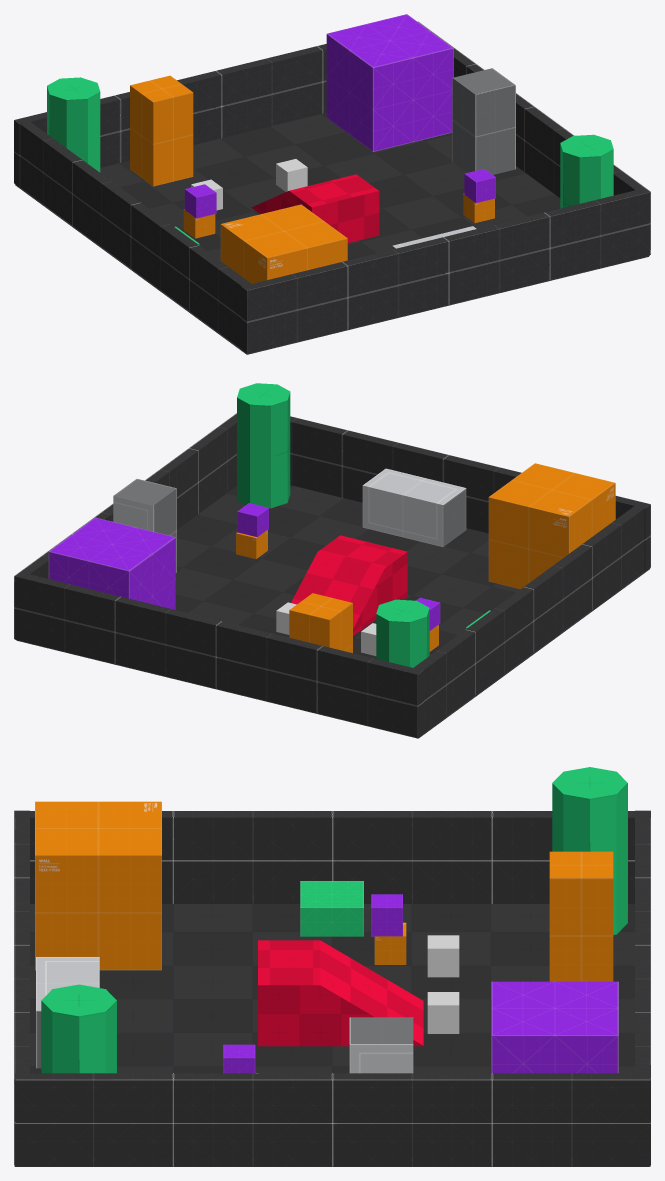
File: TestLevel.glb
3 views of the same model, one above another, from view 1: azimuth 30°, elevation 25°; view 2: azimuth 150°, elevation 25°; view 3: azimuth 270°, elevation 25° (orthographic). The views are drawn at different scales.
Visible parts, largest first — view 1: Walls, Props, Floor, Ramp, SpawnHealthPotion; view 2: Walls, Props, Floor, Ramp; view 3: Walls, Props, Floor, Ramp, SpawnNPC, SpawnHealthPotion.
Part boxes in pixels (bbox=[...]): Walls: bbox=[14, 21, 650, 353]; Props: bbox=[47, 14, 613, 283]; Floor: bbox=[15, 112, 648, 354]; Ramp: bbox=[251, 174, 379, 242]; SpawnHealthPotion: bbox=[276, 159, 307, 191]; Walls: bbox=[14, 413, 650, 737]; Props: bbox=[48, 383, 615, 667]; Floor: bbox=[16, 485, 650, 738]; Ramp: bbox=[291, 535, 407, 635]; Walls: bbox=[14, 810, 650, 1166]; Props: bbox=[35, 767, 627, 1073]; Floor: bbox=[14, 904, 649, 1166]; Ramp: bbox=[258, 940, 423, 1046]; SpawnNPC: bbox=[427, 935, 459, 977]; SpawnHealthPotion: bbox=[427, 992, 459, 1033].
Bounding box in the file's own units: 40.16 × 9.78 × 40.11.
10 materials, 8 textured.
